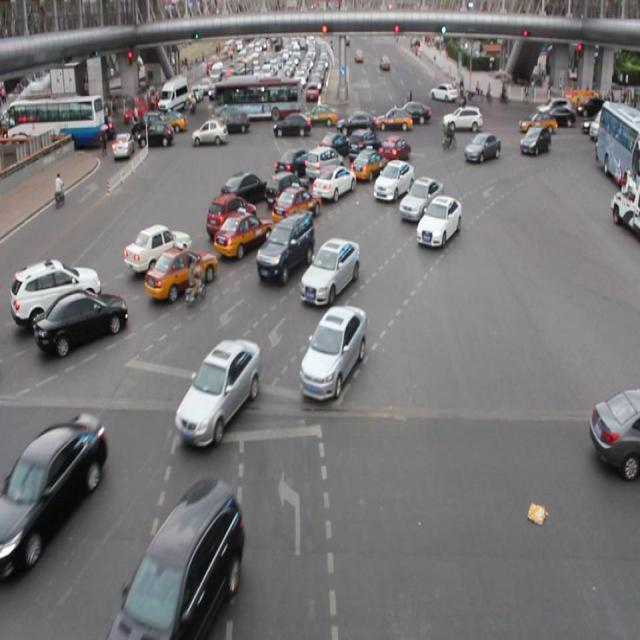car: (106, 480, 242, 640), (0, 414, 106, 570), (176, 338, 260, 446), (35, 286, 126, 355), (298, 305, 366, 397), (10, 256, 100, 320), (587, 388, 640, 477), (256, 208, 314, 280), (300, 238, 359, 305), (146, 246, 216, 300), (123, 222, 191, 272), (215, 208, 272, 255), (205, 192, 259, 236), (414, 195, 460, 246), (398, 176, 442, 222), (270, 186, 320, 223), (373, 158, 414, 202), (264, 170, 309, 208), (310, 165, 354, 200), (222, 170, 266, 201), (274, 147, 316, 178), (350, 147, 388, 180), (346, 128, 381, 161), (463, 132, 498, 164), (378, 135, 411, 166), (518, 125, 550, 156), (316, 130, 349, 160)
truck: (304, 147, 343, 185)
